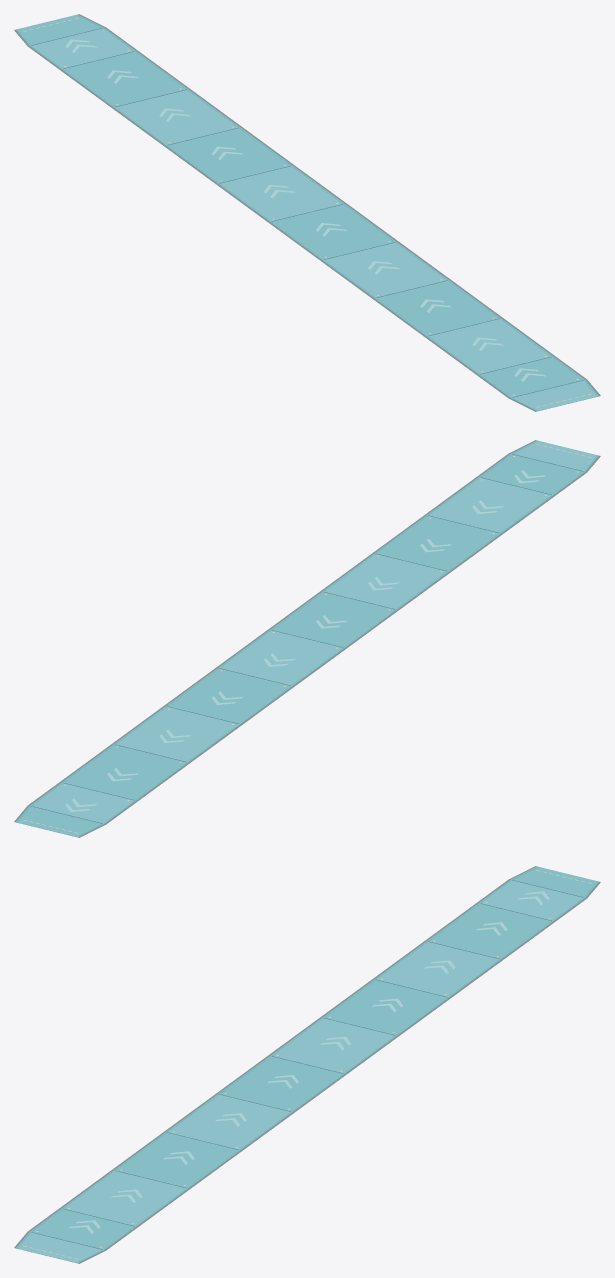
The model's file is wsc-prop-031-hover-run-up-strip.glb.
The picture shows the model from 3 angles, top to bottom: view 1: azimuth 30°, elevation 25°; view 2: azimuth 150°, elevation 25°; view 3: azimuth 330°, elevation 25°; orthographic projection.
Parts seen in each view (by area): view 1: Alternating pale cyan tile, Pale cyan surface tile, Steel landing trims, Light turquoise edges, Muted cyan chevrons, Satin blue seam; view 2: Pale cyan surface tile, Alternating pale cyan tile, Steel landing trims, Light turquoise edges, Muted cyan chevrons, Satin blue seam; view 3: Alternating pale cyan tile, Pale cyan surface tile, Steel landing trims, Light turquoise edges, Muted cyan chevrons, Satin blue seam.
Boxes of the visible parts, <box> form: Alternating pale cyan tile: <box>32,28,597,410</box>; Pale cyan surface tile: <box>17,15,582,397</box>; Steel landing trims: <box>14,14,600,411</box>; Light turquoise edges: <box>16,14,598,411</box>; Muted cyan chevrons: <box>65,39,545,381</box>; Satin blue seam: <box>15,28,598,411</box>; Pale cyan surface tile: <box>17,454,582,836</box>; Alternating pale cyan tile: <box>32,441,597,823</box>; Steel landing trims: <box>14,440,600,837</box>; Light turquoise edges: <box>16,440,598,837</box>; Muted cyan chevrons: <box>65,470,545,811</box>; Satin blue seam: <box>16,454,599,837</box>; Alternating pale cyan tile: <box>17,880,582,1262</box>; Pale cyan surface tile: <box>32,867,597,1249</box>; Steel landing trims: <box>14,866,600,1263</box>; Light turquoise edges: <box>16,866,598,1263</box>; Muted cyan chevrons: <box>69,891,549,1233</box>; Satin blue seam: <box>16,880,599,1263</box>.
Size of the model in its own units: 3.9 by 0.013 by 45.
